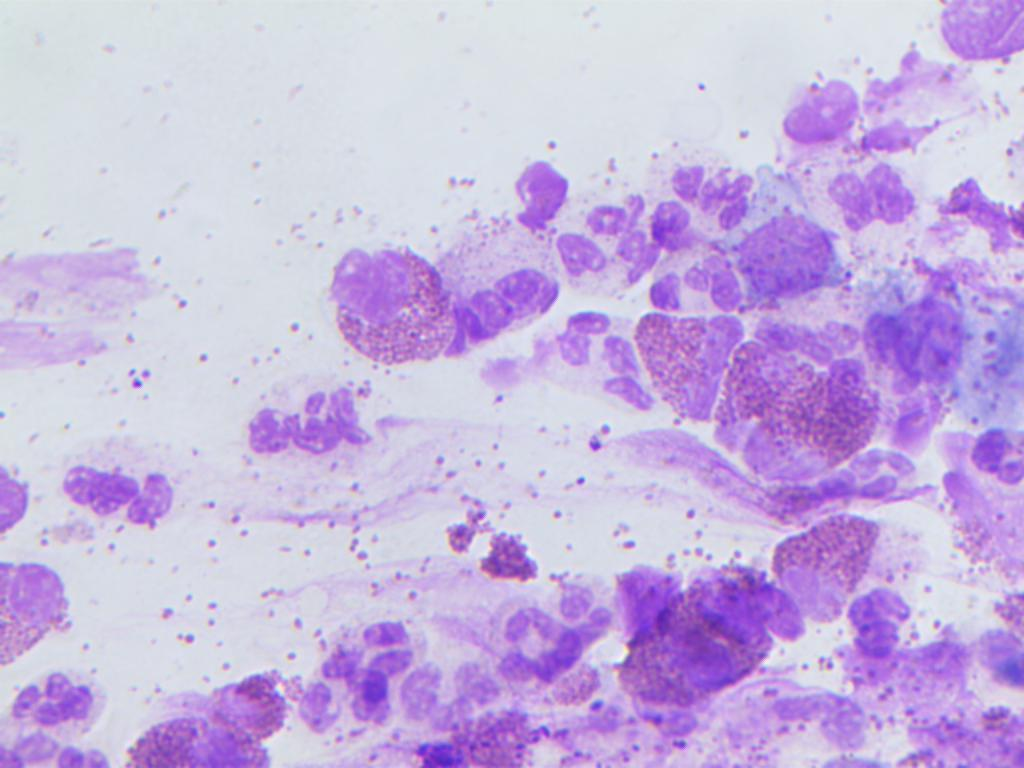artifact: (488, 137, 576, 239), (939, 156, 1024, 257), (779, 60, 869, 153)
eosinophil: (601, 556, 810, 706), (712, 323, 891, 489), (331, 234, 450, 374), (760, 505, 891, 629), (637, 308, 738, 414), (410, 703, 574, 768), (0, 547, 81, 674), (192, 653, 289, 744), (127, 715, 271, 767)
epithelial: (737, 203, 836, 299), (910, 0, 1024, 67)
lymphocyte: (869, 287, 971, 399)
neutrophil: (428, 205, 560, 358), (296, 599, 421, 754), (471, 584, 630, 696), (527, 182, 680, 296), (227, 380, 386, 478), (31, 440, 194, 534), (538, 308, 656, 428), (723, 683, 873, 768), (798, 158, 933, 244), (652, 235, 750, 319), (668, 146, 757, 230), (842, 582, 931, 666), (9, 672, 117, 738), (964, 597, 1024, 701), (403, 658, 492, 728), (951, 426, 1024, 503), (0, 728, 123, 768)
